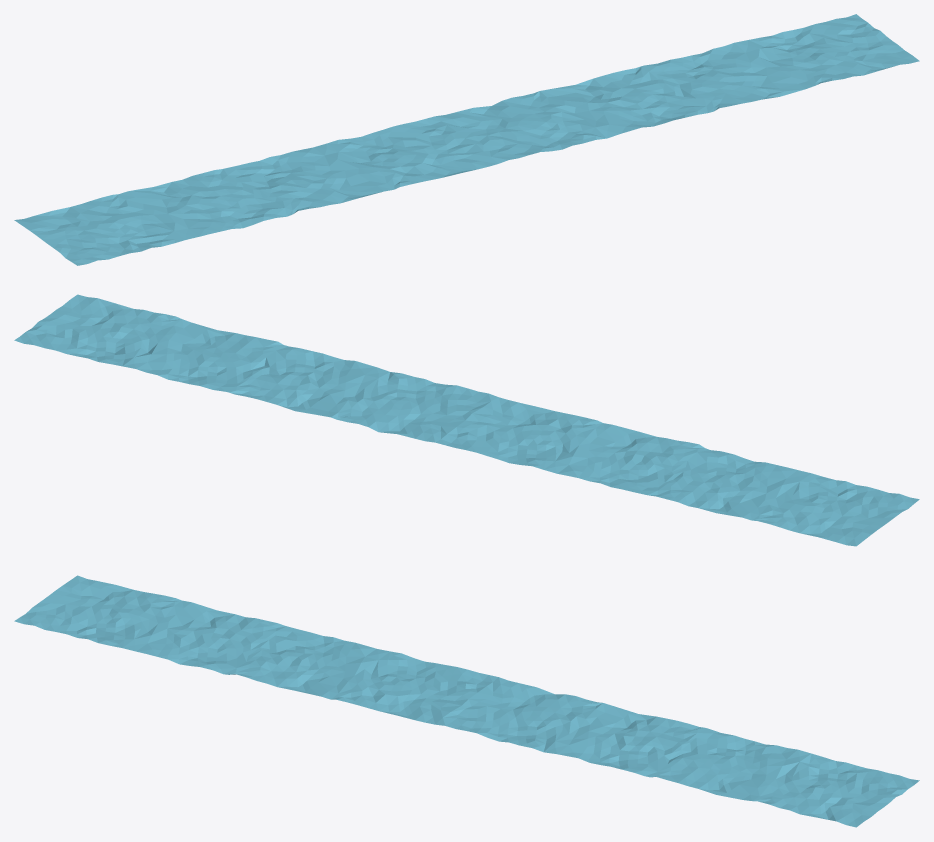
3 renders of one model, top to bottom at view 1: azimuth 30°, elevation 25°; view 2: azimuth 150°, elevation 25°; view 3: azimuth 330°, elevation 25°, orthographic.
Parts seen in each view (by area): view 1: Plane; view 2: Plane; view 3: Plane.
Boxes of the visible parts, x1,y1,x2,y2 form: Plane: (14,14,919,265); Plane: (14,294,919,546); Plane: (14,575,919,827).
Bounding box in the file's own units: 471 × 61.48 × 2.81.
